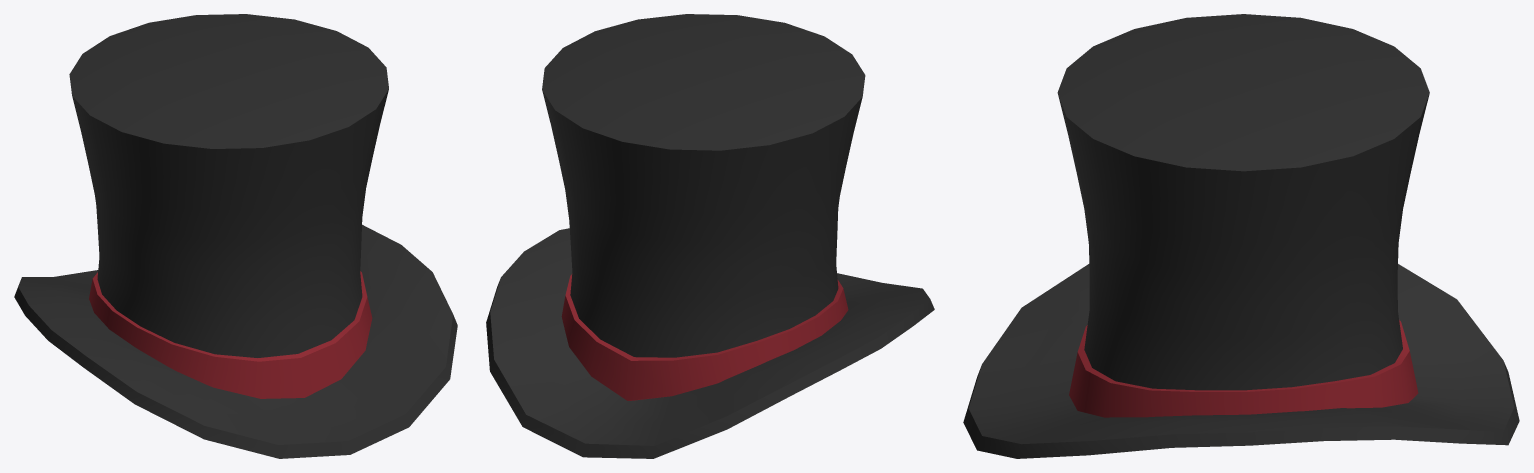
The model's file is Top Hat.fbx.
3 views of the same model, side by side, from view 1: azimuth 30°, elevation 25°; view 2: azimuth 150°, elevation 25°; view 3: azimuth 270°, elevation 25° (orthographic). The views are drawn at different scales.
Visible parts, largest first — view 1: 0.TopHat; view 2: 0.TopHat; view 3: 0.TopHat.
Part boxes in pixels (x1,y1,x2,y2): 0.TopHat: [14, 14, 457, 458]; 0.TopHat: [486, 14, 934, 458]; 0.TopHat: [963, 14, 1519, 458].
Size of the model in its own units: 189 by 148 by 220.
